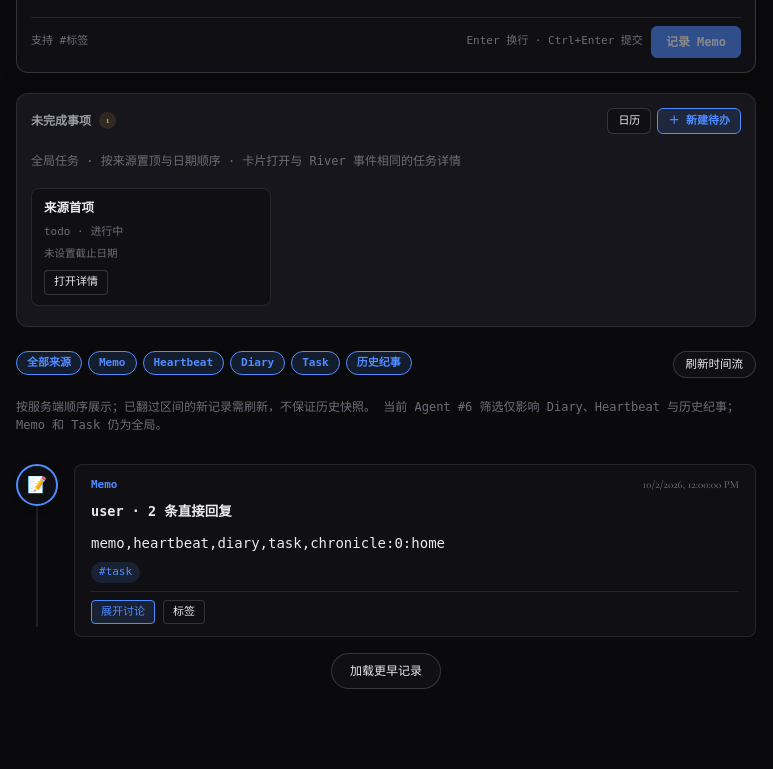
it: River CP1 read page › refresh discards old pages/cursor and changes filters always restart at home, including revisits
The width and height of the screenshot is (773, 769).
(page scrolled)
Click the button "加载更早记录" at (386, 671), box [331,653,441,689]
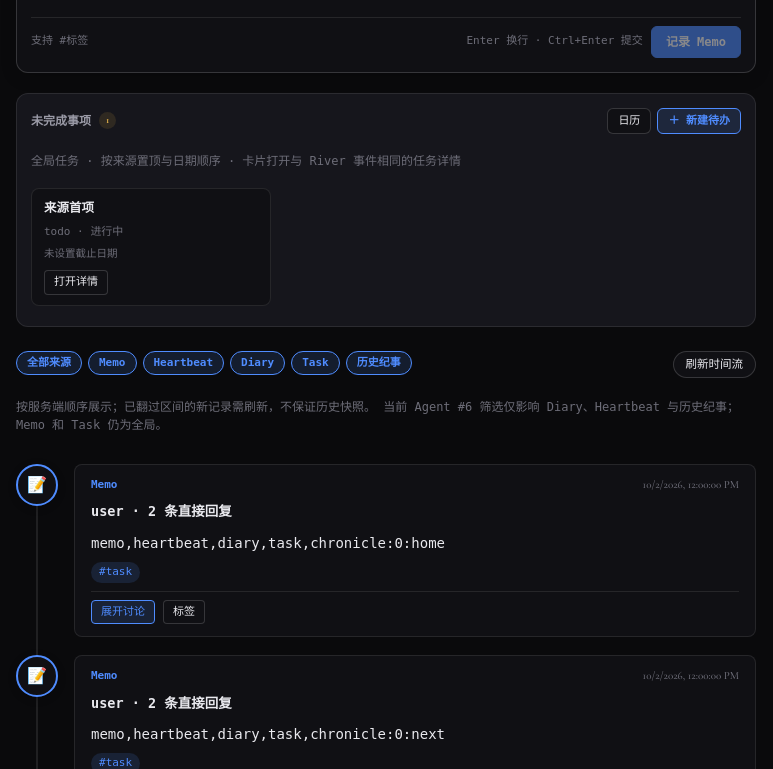
Result: the text "memo,heartbeat,diary,task,chronicle:0:next" is shown at [91,726,445,742]
Click the button "刷新时间流" at (714, 364), box [672,350,756,378]
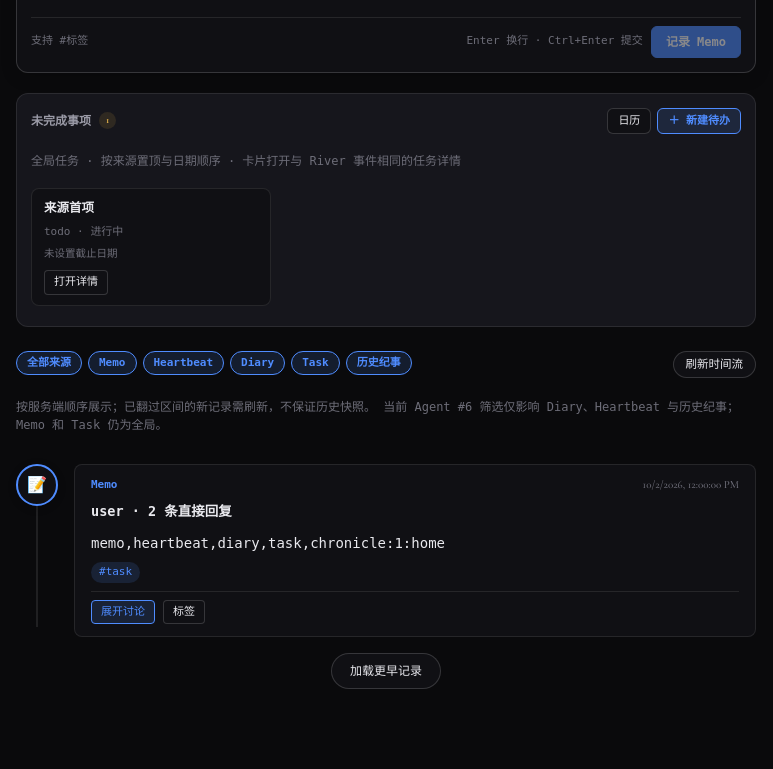
Result: the text "memo,heartbeat,diary,task,chronicle:1:home" is shown at [91,535,445,551]
Result: the text ":0:next" is gone
Click the button "Memo" at (112, 363), box [88,351,136,375]
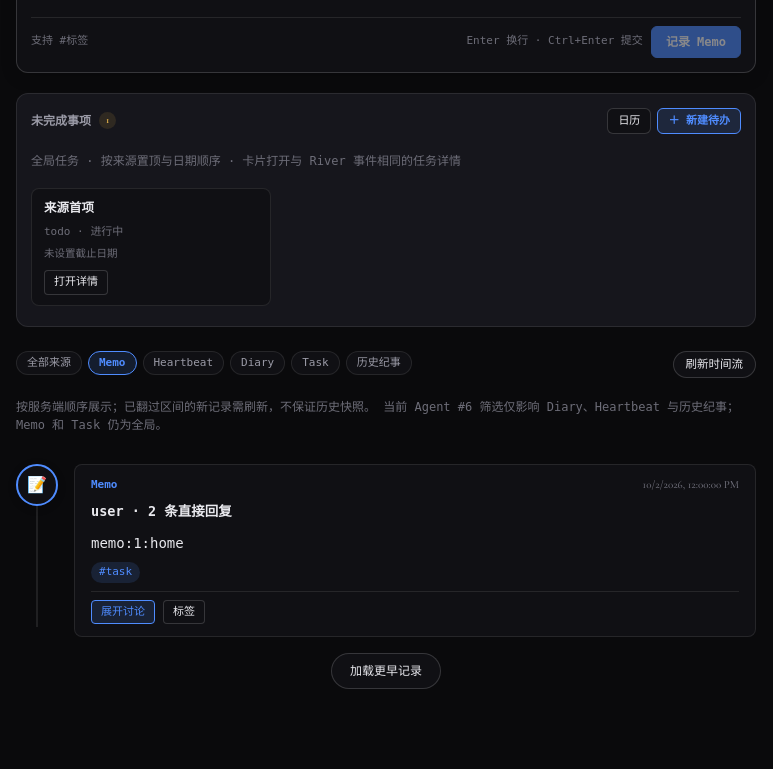
Result: the text "memo:1:home" is shown at [91,535,184,551]
Click the button "全部来源" at (49, 363), box [16,351,82,375]
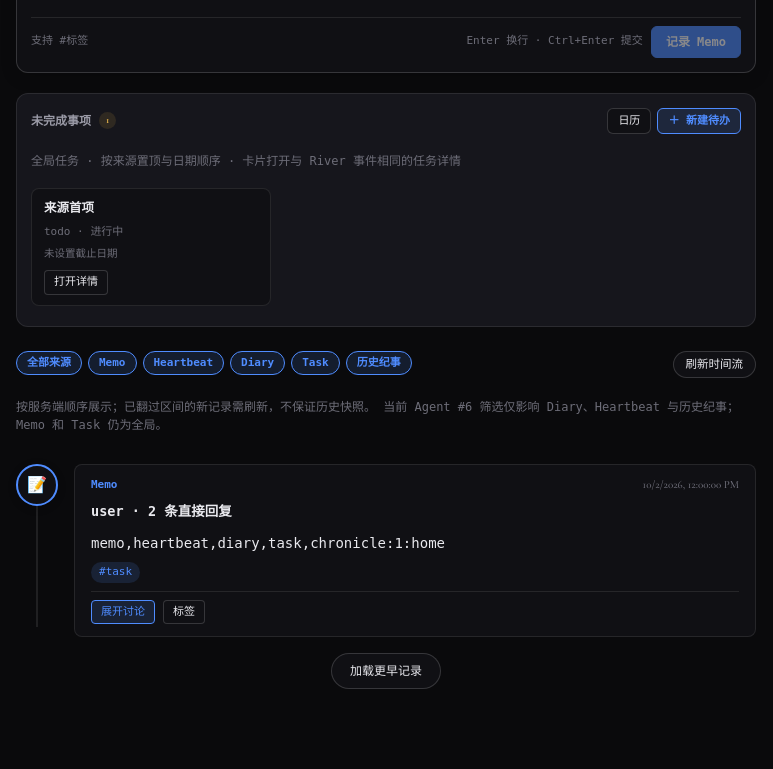
Expected: the heading "来源首项" is shown, [44,200,94,215]
Result: the text "memo,heartbeat,diary,task,chronicle:1:home" is shown at [91,535,445,551]
